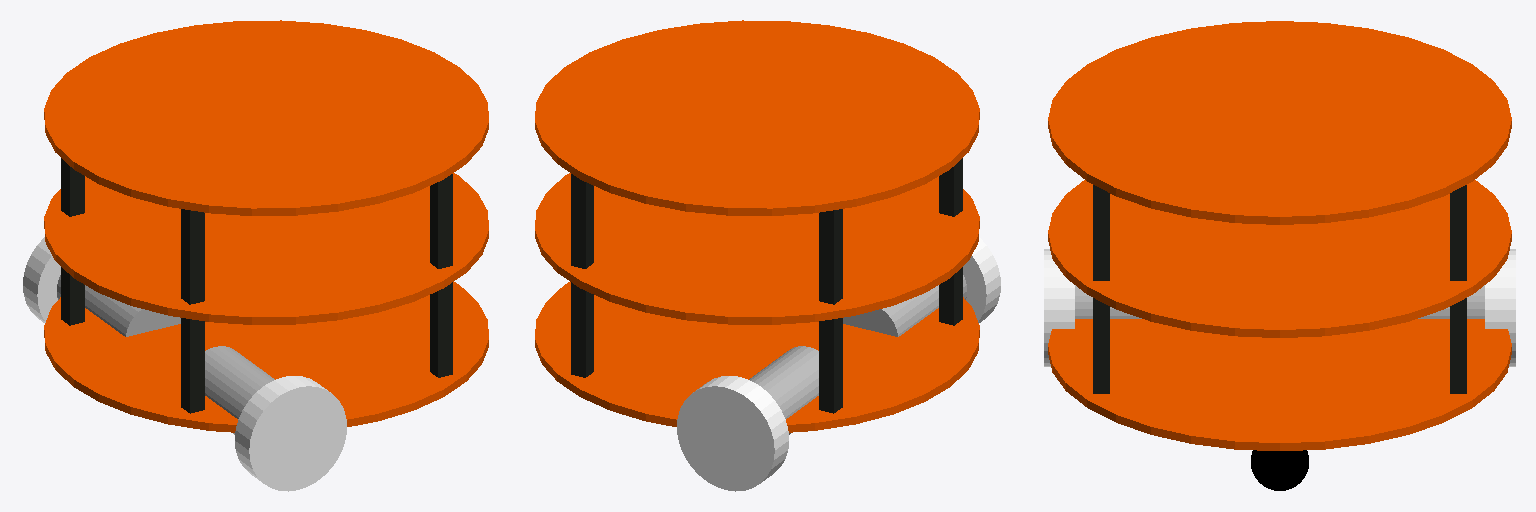
robot.urdf — mrobot:
<?xml version="1.0" encoding="utf-8"?>
<!-- =================================================================================== -->
<!-- |    This document was autogenerated by xacro from mrobot_with_kinect.urdf.xacro  | -->
<!-- |    EDITING THIS FILE BY HAND IS NOT RECOMMENDED                                 | -->
<!-- =================================================================================== -->
<robot name="mrobot">
  <material name="Green">
    <color rgba="0.0 0.8 0.0 1.0"/>
  </material>
  <material name="yellow">
    <color rgba="1 0.4 0 1"/>
  </material>
  <material name="black">
    <color rgba="0 0 0 0.95"/>
  </material>
  <material name="gray">
    <color rgba="0.75 0.75 0.75 1"/>
  </material>
  <link name="base_footprint">
    <visual>
      <origin rpy="0 0 0" xyz="0 0 0"/>
      <geometry>
        <box size="0.001 0.001 0.001"/>
      </geometry>
    </visual>
  </link>
  <link name="base_link">
    <inertial>
      <mass value="2"/>
      <origin xyz="0 0 0.0"/>
      <inertia ixx="0.01" ixy="0.0" ixz="0.0" iyy="0.01" iyz="0.0" izz="0.5"/>
    </inertial>
    <visual>
      <origin rpy="0 0 0" xyz=" 0 0 0"/>
      <geometry>
        <cylinder length="0.005" radius="0.13"/>
      </geometry>
      <material name="yellow"/>
    </visual>
    <collision>
      <origin rpy="0 0 0" xyz="0 0 0"/>
      <geometry>
        <cylinder length="0.005" radius="0.13"/>
      </geometry>
    </collision>
  </link>
  <joint name="base_footprint_joint" type="fixed">
    <origin rpy="0 0 0" xyz="0 0 0.033"/>
    <parent link="base_footprint"/>
    <child link="base_link"/>
  </joint>
  <link name="left_motor">
    <inertial>
      <origin xyz="0.0 0 0"/>
      <mass value="0.1"/>
      <inertia ixx="0.001" ixy="0.0" ixz="0.0" iyy="0.001" iyz="0.0" izz="0.001"/>
    </inertial>
    <visual>
      <origin rpy="1.570795 0 0" xyz="0 0 0"/>
      <geometry>
        <cylinder length="0.08" radius="0.02"/>
      </geometry>
      <material name="gray"/>
    </visual>
    <collision>
      <origin rpy="1.570795 0 0" xyz="0 0 0"/>
      <geometry>
        <cylinder length="0.08" radius="0.02"/>
      </geometry>
    </collision>
  </link>
  <joint name="base_left_motor_joint" type="fixed">
    <origin rpy="0 0 0" xyz="-0.055 0.075 0"/>
    <parent link="base_link"/>
    <child link="left_motor"/>
  </joint>
  <link name="left_wheel_link">
    <inertial>
      <origin xyz="0 0 0"/>
      <mass value="0.01"/>
      <inertia ixx="0.001" ixy="0.0" ixz="0.0" iyy="0.001" iyz="0.0" izz="0.001"/>
    </inertial>
    <visual>
      <origin rpy="1.570795 0 0" xyz="0 0 0"/>
      <geometry>
        <cylinder length="0.017" radius="0.033"/>
      </geometry>
      <material name="white">
        <color rgba="1 1 1 0.9"/>
      </material>
    </visual>
    <collision>
      <origin rpy="1.570795 0 0" xyz="0 0 0"/>
      <geometry>
        <cylinder length="0.017" radius="0.033"/>
      </geometry>
    </collision>
  </link>
  <joint name="left_wheel_joint" type="continuous">
    <origin rpy="0 0 0" xyz="0 0.0485 0"/>
    <parent link="left_motor"/>
    <child link="left_wheel_link"/>
    <axis xyz="0 1 0"/>
  </joint>
  <link name="right_motor">
    <inertial>
      <origin xyz="0.0 0 0"/>
      <mass value="0.1"/>
      <inertia ixx="0.001" ixy="0.0" ixz="0.0" iyy="0.001" iyz="0.0" izz="0.001"/>
    </inertial>
    <visual>
      <origin rpy="1.570795 0 0" xyz="0 0 0"/>
      <geometry>
        <cylinder length="0.08" radius="0.02"/>
      </geometry>
      <material name="gray"/>
    </visual>
    <collision>
      <origin rpy="1.570795 0 0" xyz="0 0 0"/>
      <geometry>
        <cylinder length="0.08" radius="0.02"/>
      </geometry>
    </collision>
  </link>
  <joint name="base_right_motor_joint" type="fixed">
    <origin rpy="0 0 0" xyz="-0.055 -0.075 0"/>
    <parent link="base_link"/>
    <child link="right_motor"/>
  </joint>
  <link name="right_wheel_link">
    <inertial>
      <origin xyz="0 0 0"/>
      <mass value="0.01"/>
      <inertia ixx="0.001" ixy="0.0" ixz="0.0" iyy="0.001" iyz="0.0" izz="0.001"/>
    </inertial>
    <visual>
      <origin rpy="1.570795 0 0" xyz="0 0 0"/>
      <geometry>
        <cylinder length="0.017" radius="0.033"/>
      </geometry>
      <material name="white">
        <color rgba="1 1 1 0.9"/>
      </material>
    </visual>
    <collision>
      <origin rpy="1.570795 0 0" xyz="0 0 0"/>
      <geometry>
        <cylinder length="0.017" radius="0.033"/>
      </geometry>
    </collision>
  </link>
  <joint name="right_wheel_joint" type="continuous">
    <origin rpy="0 0 0" xyz="0 -0.0485 0"/>
    <parent link="right_motor"/>
    <child link="right_wheel_link"/>
    <axis xyz="0 1 0"/>
  </joint>
  <link name="front_caster_link">
    <inertial>
      <origin xyz="0 0 0"/>
      <mass value="0.001"/>
      <inertia ixx="0.0001" ixy="0.0" ixz="0.0" iyy="0.0001" iyz="0.0" izz="0.0001"/>
    </inertial>
    <visual>
      <origin rpy="1.570795 0 0" xyz="0 0 0"/>
      <geometry>
        <sphere radius="0.0165"/>
      </geometry>
      <material name="black"/>
    </visual>
    <collision>
      <origin rpy="1.570795 0 0" xyz="0 0 0.01"/>
      <geometry>
        <sphere radius="0.0165"/>
      </geometry>
    </collision>
  </link>
  <joint name="front_caster_joint" type="fixed">
    <origin rpy="0 0 0" xyz="0.1135 0 -0.0165"/>
    <parent link="base_link"/>
    <child link="front_caster_link"/>
  </joint>
  <joint name="standoff_2in_1_joint" type="fixed">
    <origin rpy="0 0 0" xyz="-0.09 -0.07 0.035"/>
    <parent link="base_link"/>
    <child link="standoff_2in_1_link"/>
  </joint>
  <link name="standoff_2in_1_link">
    <inertial>
      <mass value="0.001"/>
      <origin xyz="0 0 0"/>
      <inertia ixx="0.0001" ixy="0.0" ixz="0.0" iyy="0.0001" iyz="0.0" izz="0.0001"/>
    </inertial>
    <visual>
      <origin rpy="0 0 0" xyz=" 0 0 0 "/>
      <geometry>
        <box size="0.01 0.01 0.07"/>
      </geometry>
      <material name="black">
        <color rgba="0.16 0.17 0.15 0.9"/>
      </material>
    </visual>
    <collision>
      <origin rpy="0 0 0" xyz="0.0 0.0 0.0"/>
      <geometry>
        <box size="0.01 0.01 0.07"/>
      </geometry>
    </collision>
  </link>
  <joint name="standoff_2in_2_joint" type="fixed">
    <origin rpy="0 0 0" xyz="-0.09 0.07 0.035"/>
    <parent link="base_link"/>
    <child link="standoff_2in_2_link"/>
  </joint>
  <link name="standoff_2in_2_link">
    <inertial>
      <mass value="0.001"/>
      <origin xyz="0 0 0"/>
      <inertia ixx="0.0001" ixy="0.0" ixz="0.0" iyy="0.0001" iyz="0.0" izz="0.0001"/>
    </inertial>
    <visual>
      <origin rpy="0 0 0" xyz=" 0 0 0 "/>
      <geometry>
        <box size="0.01 0.01 0.07"/>
      </geometry>
      <material name="black">
        <color rgba="0.16 0.17 0.15 0.9"/>
      </material>
    </visual>
    <collision>
      <origin rpy="0 0 0" xyz="0.0 0.0 0.0"/>
      <geometry>
        <box size="0.01 0.01 0.07"/>
      </geometry>
    </collision>
  </link>
  <joint name="standoff_2in_3_joint" type="fixed">
    <origin rpy="0 0 0" xyz="0.06 -0.1 0.035"/>
    <parent link="base_link"/>
    <child link="standoff_2in_3_link"/>
  </joint>
  <link name="standoff_2in_3_link">
    <inertial>
      <mass value="0.001"/>
      <origin xyz="0 0 0"/>
      <inertia ixx="0.0001" ixy="0.0" ixz="0.0" iyy="0.0001" iyz="0.0" izz="0.0001"/>
    </inertial>
    <visual>
      <origin rpy="0 0 0" xyz=" 0 0 0 "/>
      <geometry>
        <box size="0.01 0.01 0.07"/>
      </geometry>
      <material name="black">
        <color rgba="0.16 0.17 0.15 0.9"/>
      </material>
    </visual>
    <collision>
      <origin rpy="0 0 0" xyz="0.0 0.0 0.0"/>
      <geometry>
        <box size="0.01 0.01 0.07"/>
      </geometry>
    </collision>
  </link>
  <joint name="standoff_2in_4_joint" type="fixed">
    <origin rpy="0 0 0" xyz="0.06 0.1 0.035"/>
    <parent link="base_link"/>
    <child link="standoff_2in_4_link"/>
  </joint>
  <link name="standoff_2in_4_link">
    <inertial>
      <mass value="0.001"/>
      <origin xyz="0 0 0"/>
      <inertia ixx="0.0001" ixy="0.0" ixz="0.0" iyy="0.0001" iyz="0.0" izz="0.0001"/>
    </inertial>
    <visual>
      <origin rpy="0 0 0" xyz=" 0 0 0 "/>
      <geometry>
        <box size="0.01 0.01 0.07"/>
      </geometry>
      <material name="black">
        <color rgba="0.16 0.17 0.15 0.9"/>
      </material>
    </visual>
    <collision>
      <origin rpy="0 0 0" xyz="0.0 0.0 0.0"/>
      <geometry>
        <box size="0.01 0.01 0.07"/>
      </geometry>
    </collision>
  </link>
  <joint name="plate_1_joint" type="fixed">
    <origin rpy="0 0 0" xyz="0 0 0.07"/>
    <parent link="base_link"/>
    <child link="plate_1_link"/>
  </joint>
  <link name="plate_1_link">
    <inertial>
      <mass value="0.1"/>
      <origin xyz="0 0 0"/>
      <inertia ixx="0.01" ixy="0.0" ixz="0.0" iyy="0.01" iyz="0.0" izz="0.01"/>
    </inertial>
    <visual>
      <origin rpy="0 0 0" xyz=" 0 0 0 "/>
      <geometry>
        <cylinder length="0.005" radius="0.13"/>
      </geometry>
      <material name="yellow"/>
    </visual>
    <collision>
      <origin rpy="0 0 0" xyz="0.0 0.0 0.0"/>
      <geometry>
        <cylinder length="0.005" radius="0.13"/>
      </geometry>
    </collision>
  </link>
  <joint name="standoff_2in_5_joint" type="fixed">
    <origin rpy="0 0 0" xyz="0 0 0.07"/>
    <parent link="standoff_2in_1_link"/>
    <child link="standoff_2in_5_link"/>
  </joint>
  <link name="standoff_2in_5_link">
    <inertial>
      <mass value="0.001"/>
      <origin xyz="0 0 0"/>
      <inertia ixx="0.0001" ixy="0.0" ixz="0.0" iyy="0.0001" iyz="0.0" izz="0.0001"/>
    </inertial>
    <visual>
      <origin rpy="0 0 0" xyz=" 0 0 0 "/>
      <geometry>
        <box size="0.01 0.01 0.07"/>
      </geometry>
      <material name="black">
        <color rgba="0.16 0.17 0.15 0.9"/>
      </material>
    </visual>
    <collision>
      <origin rpy="0 0 0" xyz="0.0 0.0 0.0"/>
      <geometry>
        <box size="0.01 0.01 0.07"/>
      </geometry>
    </collision>
  </link>
  <joint name="standoff_2in_6_joint" type="fixed">
    <origin rpy="0 0 0" xyz="0 0 0.07"/>
    <parent link="standoff_2in_2_link"/>
    <child link="standoff_2in_6_link"/>
  </joint>
  <link name="standoff_2in_6_link">
    <inertial>
      <mass value="0.001"/>
      <origin xyz="0 0 0"/>
      <inertia ixx="0.0001" ixy="0.0" ixz="0.0" iyy="0.0001" iyz="0.0" izz="0.0001"/>
    </inertial>
    <visual>
      <origin rpy="0 0 0" xyz=" 0 0 0 "/>
      <geometry>
        <box size="0.01 0.01 0.07"/>
      </geometry>
      <material name="black">
        <color rgba="0.16 0.17 0.15 0.9"/>
      </material>
    </visual>
    <collision>
      <origin rpy="0 0 0" xyz="0.0 0.0 0.0"/>
      <geometry>
        <box size="0.01 0.01 0.07"/>
      </geometry>
    </collision>
  </link>
  <joint name="standoff_2in_7_joint" type="fixed">
    <origin rpy="0 0 0" xyz="0 0 0.07"/>
    <parent link="standoff_2in_3_link"/>
    <child link="standoff_2in_7_link"/>
  </joint>
  <link name="standoff_2in_7_link">
    <inertial>
      <mass value="0.001"/>
      <origin xyz="0 0 0"/>
      <inertia ixx="0.0001" ixy="0.0" ixz="0.0" iyy="0.0001" iyz="0.0" izz="0.0001"/>
    </inertial>
    <visual>
      <origin rpy="0 0 0" xyz=" 0 0 0 "/>
      <geometry>
        <box size="0.01 0.01 0.07"/>
      </geometry>
      <material name="black">
        <color rgba="0.16 0.17 0.15 0.9"/>
      </material>
    </visual>
    <collision>
      <origin rpy="0 0 0" xyz="0.0 0.0 0.0"/>
      <geometry>
        <box size="0.01 0.01 0.07"/>
      </geometry>
    </collision>
  </link>
  <joint name="standoff_2in_8_joint" type="fixed">
    <origin rpy="0 0 0" xyz="0 0 0.07"/>
    <parent link="standoff_2in_4_link"/>
    <child link="standoff_2in_8_link"/>
  </joint>
  <link name="standoff_2in_8_link">
    <inertial>
      <mass value="0.001"/>
      <origin xyz="0 0 0"/>
      <inertia ixx="0.0001" ixy="0.0" ixz="0.0" iyy="0.0001" iyz="0.0" izz="0.0001"/>
    </inertial>
    <visual>
      <origin rpy="0 0 0" xyz=" 0 0 0 "/>
      <geometry>
        <box size="0.01 0.01 0.07"/>
      </geometry>
      <material name="black">
        <color rgba="0.16 0.17 0.15 0.9"/>
      </material>
    </visual>
    <collision>
      <origin rpy="0 0 0" xyz="0.0 0.0 0.0"/>
      <geometry>
        <box size="0.01 0.01 0.07"/>
      </geometry>
    </collision>
  </link>
  <joint name="plate_2_joint" type="fixed">
    <origin rpy="0 0 0" xyz="0 0 0.07"/>
    <parent link="plate_1_link"/>
    <child link="plate_2_link"/>
  </joint>
  <link name="plate_2_link">
    <inertial>
      <mass value="0.01"/>
      <origin xyz="0 0 0"/>
      <inertia ixx="0.001" ixy="0.0" ixz="0.0" iyy="0.001" iyz="0.0" izz="0.001"/>
    </inertial>
    <visual>
      <origin rpy="0 0 0" xyz=" 0 0 0 "/>
      <geometry>
        <cylinder length="0.005" radius="0.13"/>
      </geometry>
      <material name="yellow"/>
    </visual>
    <collision>
      <origin rpy="0 0 0" xyz="0.0 0.0 0.0"/>
      <geometry>
        <cylinder length="0.005" radius="0.13"/>
      </geometry>
    </collision>
  </link>
  <!-- Kinect -->
  <joint name="kinect_frame_joint" type="fixed">
    <origin rpy="0 0 0" xyz="-0.06 0 0.035"/>
    <parent link="plate_2_link"/>
    <child link="camera_link"/>
  </joint>
  <link name="camera_link">
    <origin rpy="0 0 0" xyz="0 0 0"/>
    <visual>
      <origin rpy="0 0 1.570795" xyz="0 0 0"/>
      <geometry>
        <mesh filename="package://mrobot_description/meshes/kinect.dae"/>
      </geometry>
    </visual>
    <collision>
      <geometry>
        <box size="0.07 0.3 0.09"/>
      </geometry>
    </collision>
  </link>
  <joint name="camera_optical_joint" type="fixed">
    <origin rpy="-1.5708 0 -1.5708" xyz="0 0 0"/>
    <parent link="camera_link"/>
    <child link="camera_frame_optical"/>
  </joint>
  <link name="camera_frame_optical"/>
</robot>

--- Facts derived from the render (not from the file) ---
The picture shows the robot from 3 angles, left to right: view 1: azimuth 30°, elevation 25°; view 2: azimuth 150°, elevation 25°; view 3: azimuth 270°, elevation 25°; orthographic projection.
Robot: mrobot — 19 links, 18 joints (2 continuous, 16 fixed); root link base_footprint; default pose: every joint at zero.
Links seen in each view (by area): view 1: plate_2_link, plate_1_link, base_link, right_wheel_link, right_motor, left_motor, standoff_2in_5_link, standoff_2in_1_link, left_wheel_link, standoff_2in_3_link, standoff_2in_7_link, standoff_2in_6_link (+1 smaller); view 2: plate_2_link, plate_1_link, base_link, left_wheel_link, left_motor, right_motor, standoff_2in_6_link, standoff_2in_2_link, right_wheel_link, standoff_2in_4_link, standoff_2in_8_link, standoff_2in_5_link (+1 smaller); view 3: plate_2_link, plate_1_link, base_link, left_wheel_link, right_wheel_link, front_caster_link, standoff_2in_7_link, standoff_2in_8_link, standoff_2in_3_link, standoff_2in_4_link, left_motor, right_motor.
Link boxes in pixels (left/top/right/bottom): plate_2_link: left=44, top=20, right=488, bottom=215; plate_1_link: left=44, top=173, right=488, bottom=324; base_link: left=44, top=282, right=488, bottom=432; right_wheel_link: left=235, top=376, right=346, bottom=491; right_motor: left=205, top=346, right=274, bottom=434; left_motor: left=57, top=275, right=180, bottom=336; standoff_2in_5_link: left=181, top=209, right=204, bottom=304; standoff_2in_1_link: left=181, top=318, right=204, bottom=413; left_wheel_link: left=23, top=237, right=60, bottom=322; standoff_2in_3_link: left=430, top=282, right=452, bottom=377; standoff_2in_7_link: left=430, top=174, right=452, bottom=268; standoff_2in_6_link: left=61, top=158, right=84, bottom=216; plate_2_link: left=535, top=20, right=979, bottom=215; plate_1_link: left=535, top=173, right=979, bottom=324; base_link: left=535, top=282, right=979, bottom=432; left_wheel_link: left=677, top=376, right=788, bottom=491; left_motor: left=749, top=346, right=818, bottom=434; right_motor: left=843, top=275, right=966, bottom=336; standoff_2in_6_link: left=819, top=209, right=842, bottom=304; standoff_2in_2_link: left=819, top=318, right=842, bottom=413; right_wheel_link: left=963, top=237, right=1000, bottom=322; standoff_2in_4_link: left=571, top=282, right=593, bottom=377; standoff_2in_8_link: left=571, top=174, right=593, bottom=268; standoff_2in_5_link: left=939, top=158, right=962, bottom=216; plate_2_link: left=1048, top=21, right=1511, bottom=224; plate_1_link: left=1048, top=180, right=1511, bottom=337; base_link: left=1048, top=319, right=1511, bottom=450; left_wheel_link: left=1485, top=249, right=1515, bottom=366; right_wheel_link: left=1044, top=249, right=1074, bottom=366; front_caster_link: left=1251, top=450, right=1308, bottom=490; standoff_2in_7_link: left=1093, top=185, right=1109, bottom=280; standoff_2in_8_link: left=1450, top=185, right=1466, bottom=280; standoff_2in_3_link: left=1093, top=298, right=1109, bottom=393; standoff_2in_4_link: left=1450, top=298, right=1466, bottom=393; left_motor: left=1418, top=285, right=1484, bottom=318; right_motor: left=1075, top=285, right=1141, bottom=318.
Size in the robot's own frame: 0.26 by 0.264 by 0.176 metres.
0 mesh visuals loaded from 1 distinct referenced files (none loaded); not drawn: 1 (reference not matched to a file when rendering).